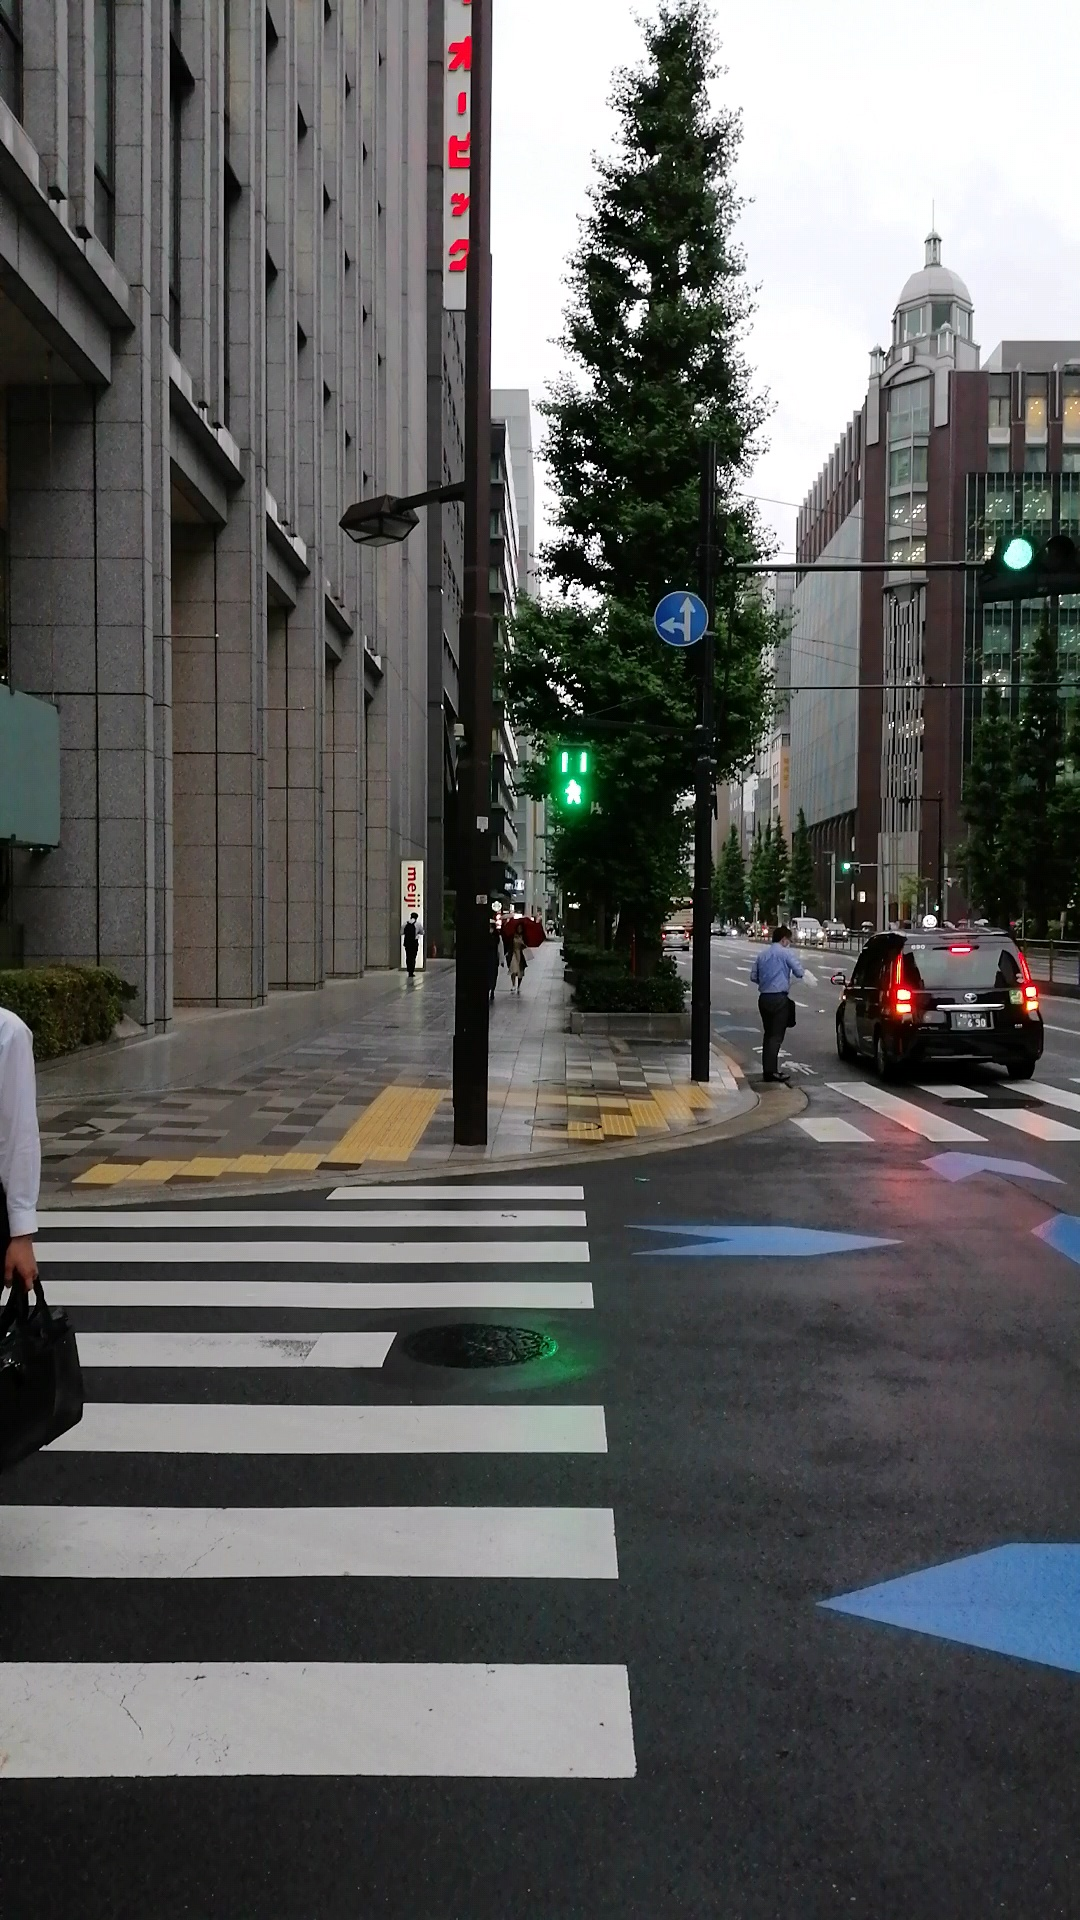green: (550, 738, 595, 814)
